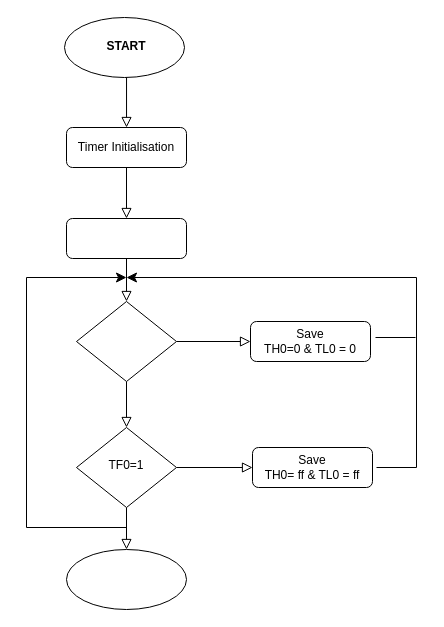
Image size: 444x627. Some labels were removed from this diagram. The centre of each missing label's shape, as x and y in pixels:
"END" belongs at point 126,579.
"Int 0 = 0" belongs at point 126,341.
"Start Us" belongs at point 126,238.
